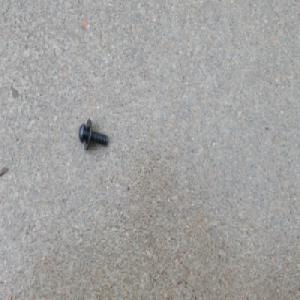BoltWasher: (77, 118, 108, 152)
